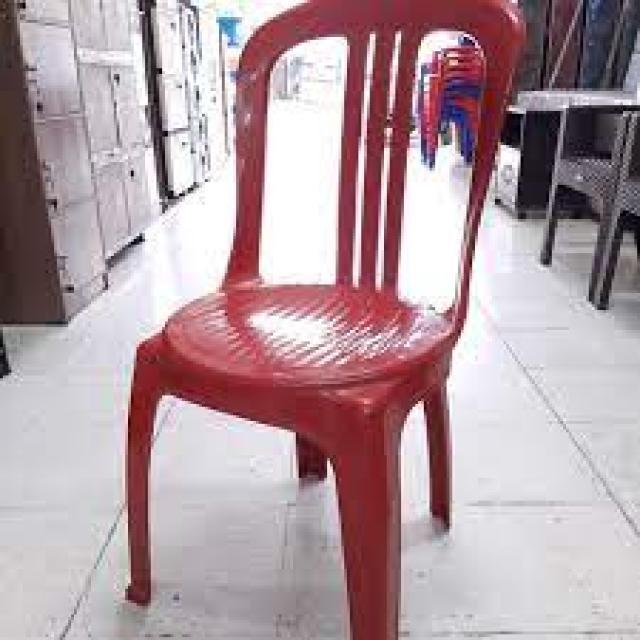chair: (120, 0, 526, 640)
